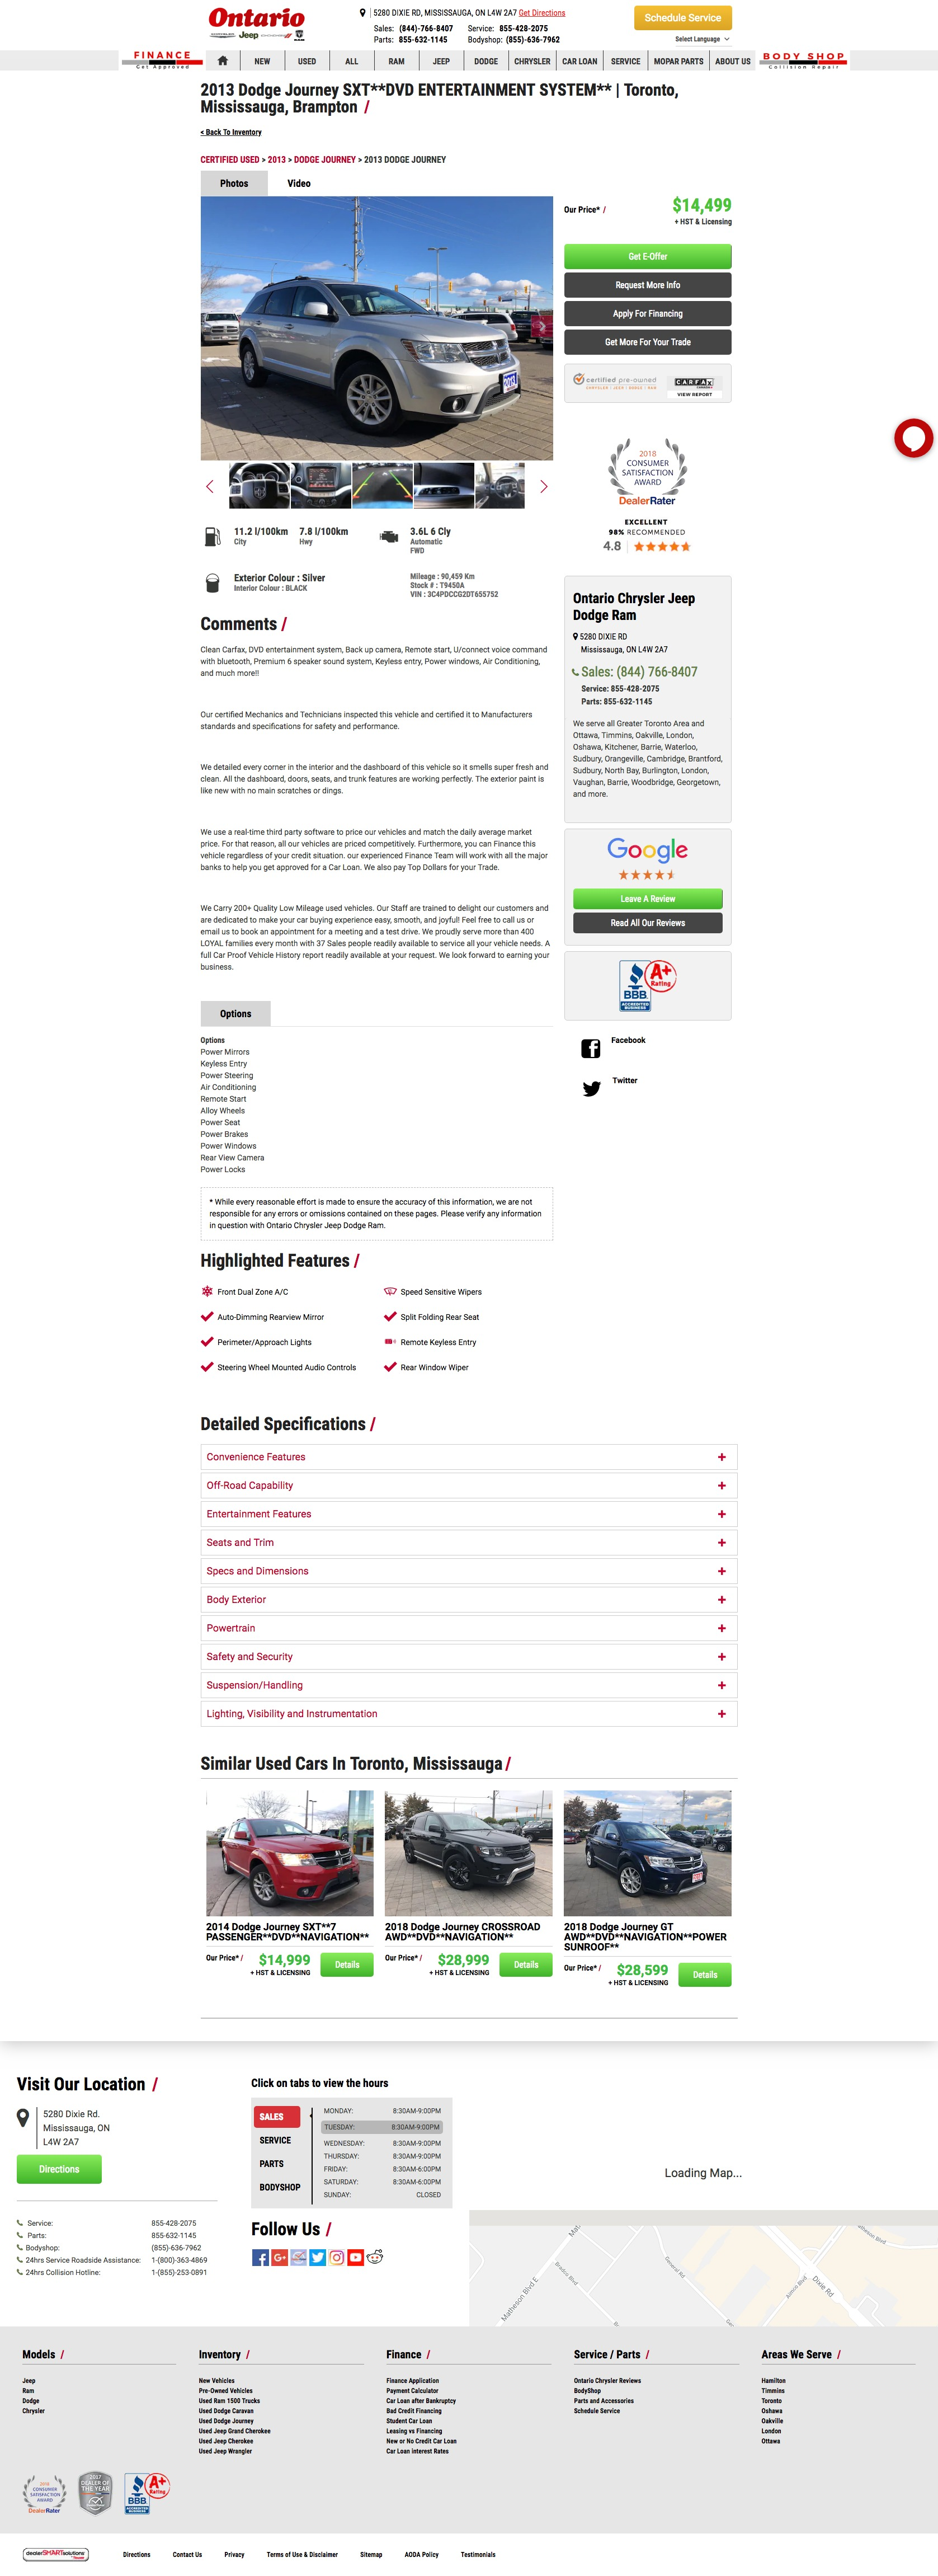car: (540, 480, 549, 494)
